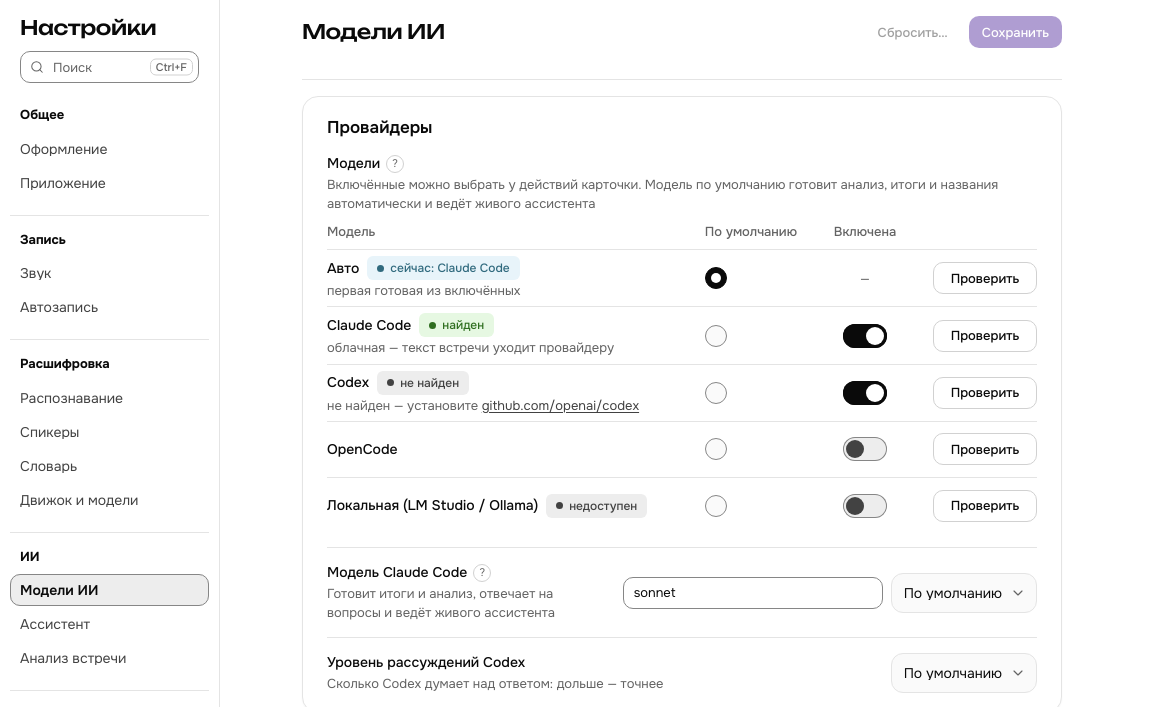
Scenario: «Проверить» удачно — «работает»; у «Авто» проверяется auto
Check: the text "сейчас: Claude Code" is shown, box [367,256,520,280]
Click the button "Проверить" in the row of "сейчас:" at (985, 278), box [933,262,1037,294]
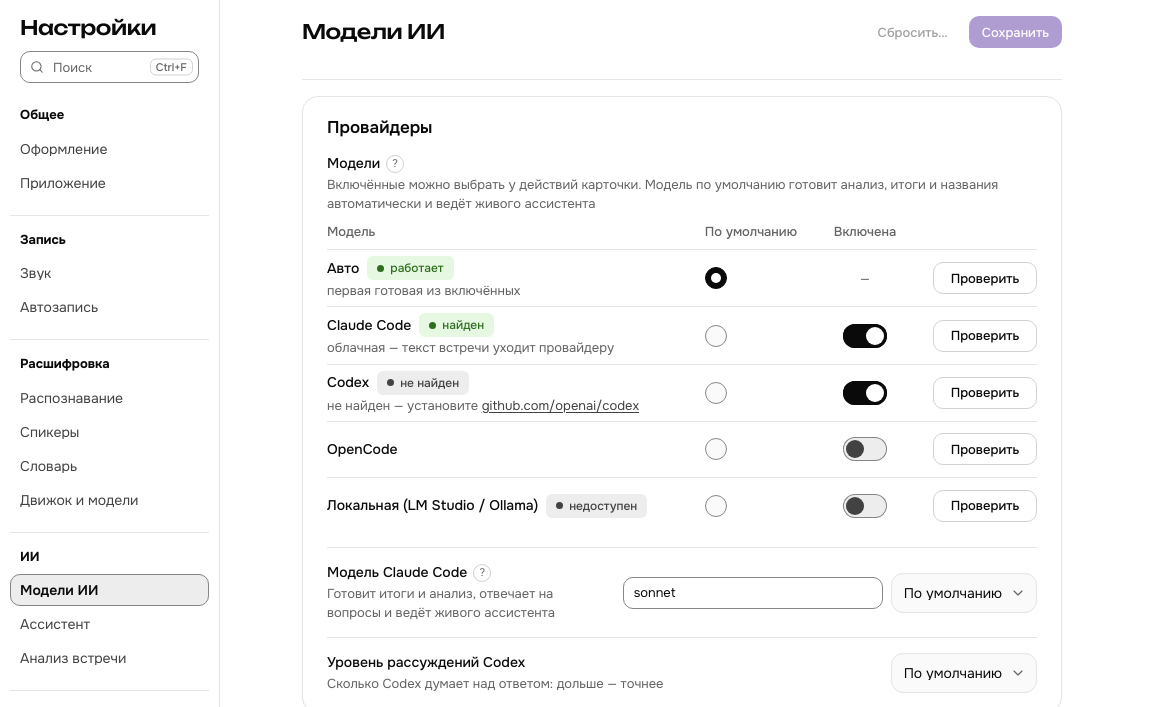
Check: the text "работает" is shown, box [367,256,454,280]
